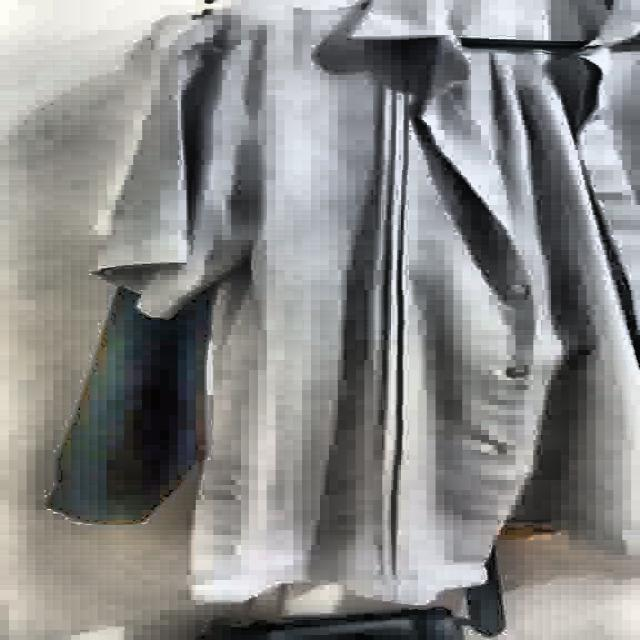clothes: (111, 0, 640, 596)
